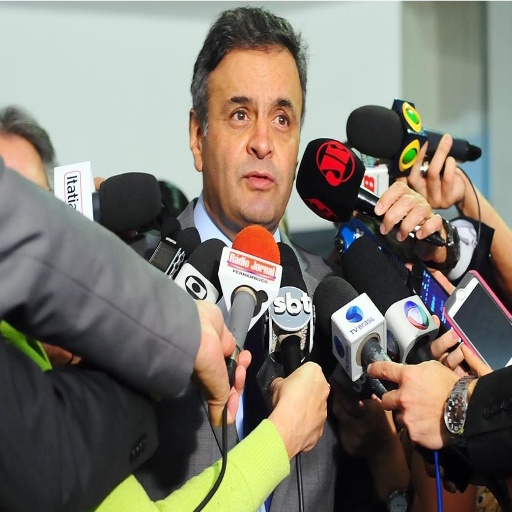hand: (367, 359, 456, 451), (374, 180, 447, 261), (269, 360, 330, 452), (407, 132, 466, 210), (192, 307, 230, 425), (427, 311, 469, 371), (456, 342, 491, 377), (43, 346, 82, 366), (91, 176, 105, 192)
